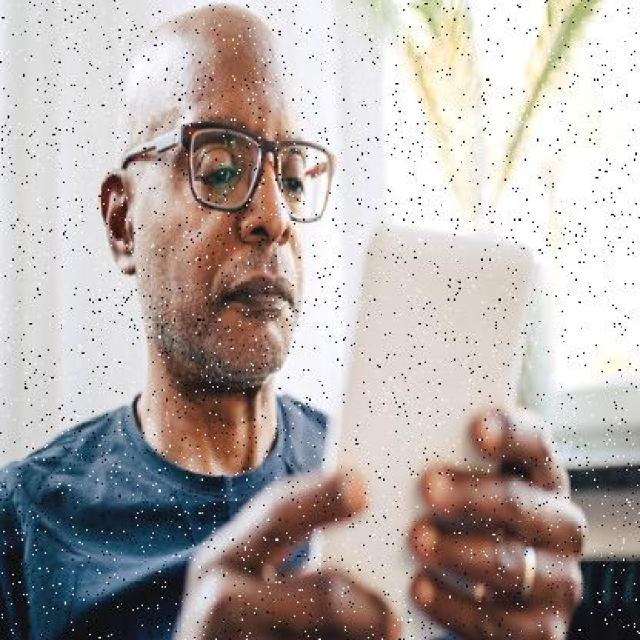glasses: (120, 125, 342, 218)
